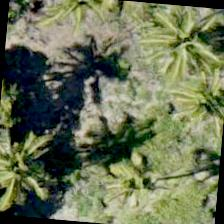Kelapa_Sawit: (96, 132, 195, 223), (138, 2, 223, 80), (159, 51, 223, 148), (0, 113, 58, 209)
